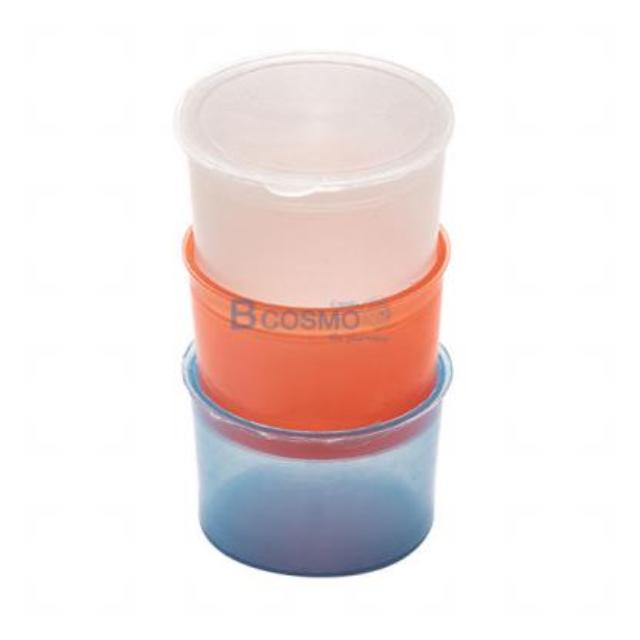plastic_box: (170, 53, 444, 577)
